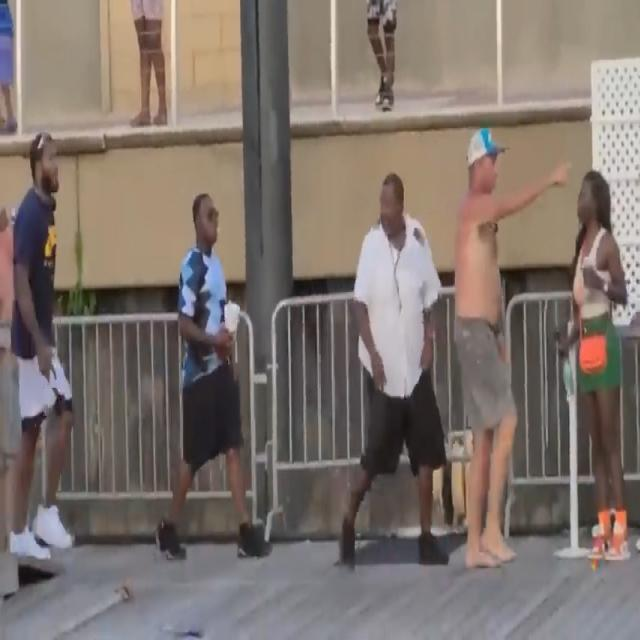non-fight: (334, 128, 640, 585), (151, 171, 278, 578), (0, 123, 75, 578)
